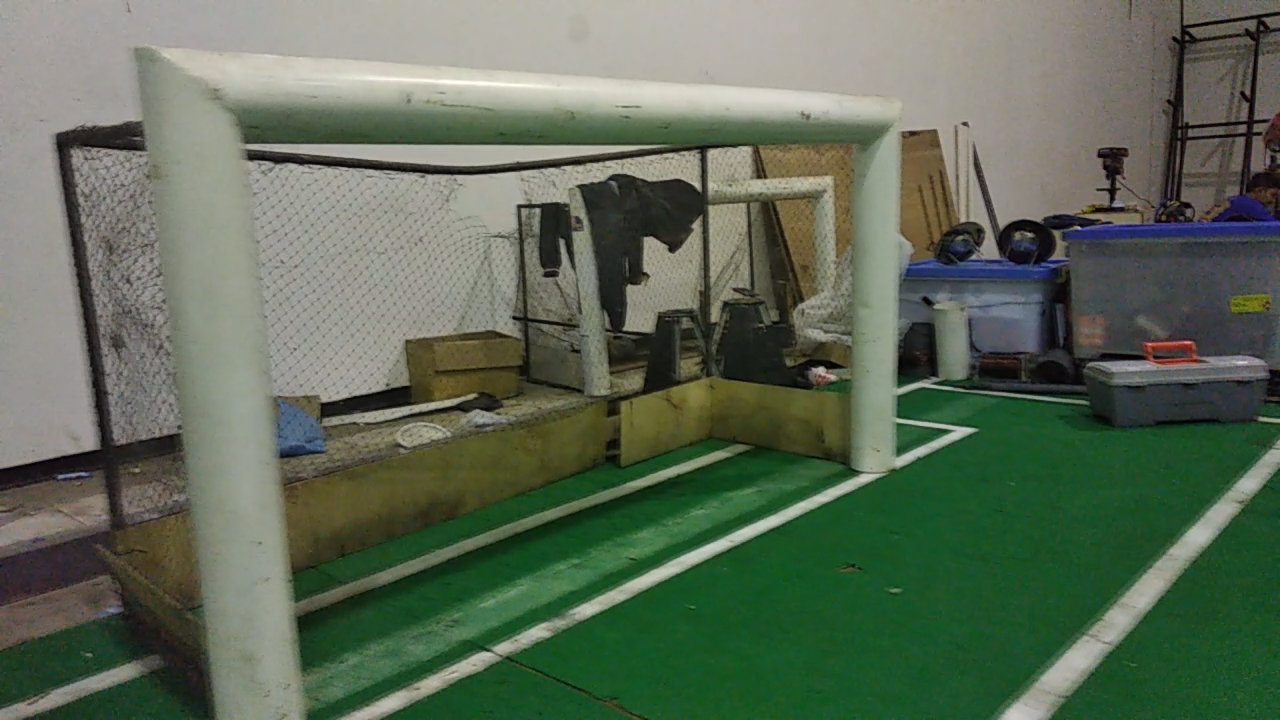gawang: (124, 33, 914, 717)
